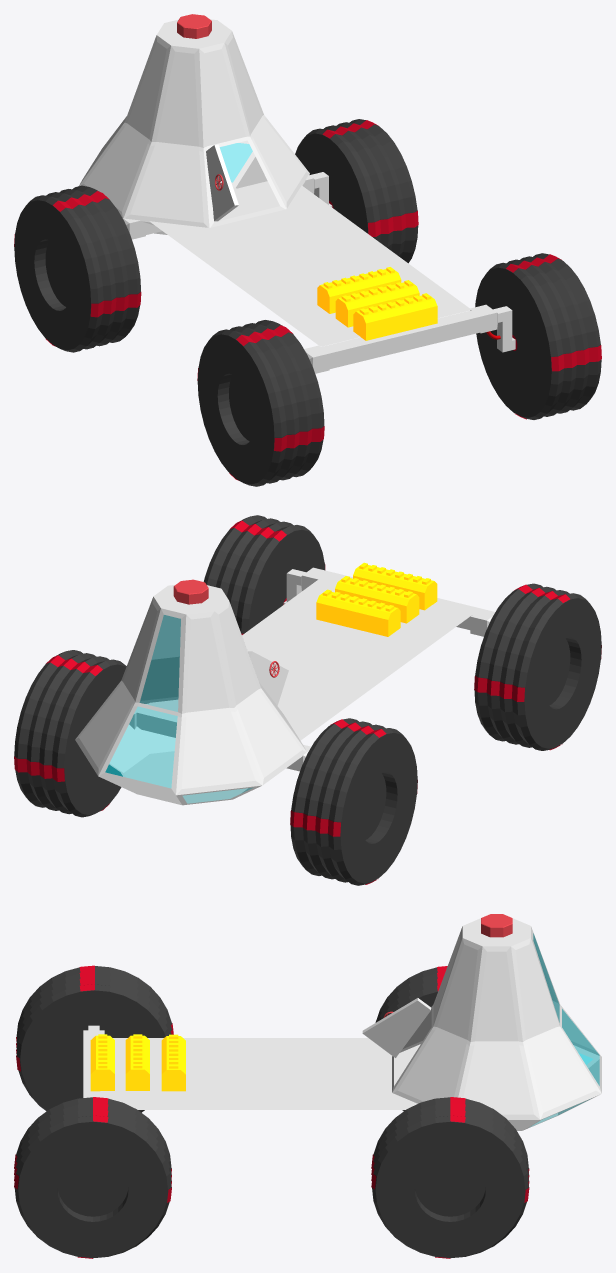
File: truk.glb
3 views of the same model, one above another, from view 1: azimuth 30°, elevation 25°; view 2: azimuth 150°, elevation 25°; view 3: azimuth 270°, elevation 25° (orthographic). The views are drawn at different scales.
Visible parts, largest first — view 1: Circle.020, Tire.002, Tire.003, Tire.004, Plane.001, Tire.001, Plane, Cube.004, Battery.003, Battery.001, Battery.002, Door (+2 smaller); view 2: Circle.020, Tire.002, Tire.003, Tire.001, Plane, Tire.004, Plane.001, Battery.001, Battery.002, Battery.003, Door, Cube.005 (+3 smaller); view 3: Circle.020, Tire.001, Tire.004, Tire.002, Plane.001, Plane, Door, Tire.003, Battery.001, Battery.003, Battery.002, Top (+1 smaller).
Part boxes in pixels (bbox=[...]): Circle.020: bbox=[79, 19, 309, 234]; Tire.002: bbox=[197, 320, 324, 486]; Tire.003: bbox=[14, 185, 141, 352]; Tire.004: bbox=[475, 253, 601, 419]; Plane.001: bbox=[149, 185, 383, 282]; Tire.001: bbox=[295, 119, 418, 263]; Plane: bbox=[234, 246, 471, 346]; Cube.004: bbox=[321, 310, 480, 368]; Battery.003: bbox=[353, 293, 437, 340]; Battery.001: bbox=[317, 267, 401, 313]; Battery.002: bbox=[335, 280, 419, 327]; Door: bbox=[206, 144, 238, 221]; Circle.020: bbox=[75, 585, 306, 805]; Tire.002: bbox=[474, 583, 601, 750]; Tire.003: bbox=[290, 718, 417, 885]; Tire.001: bbox=[14, 650, 126, 817]; Plane: bbox=[242, 578, 472, 678]; Tire.004: bbox=[203, 515, 325, 634]; Plane.001: bbox=[148, 645, 384, 740]; Battery.001: bbox=[316, 589, 400, 636]; Battery.002: bbox=[335, 576, 419, 623]; Battery.003: bbox=[353, 562, 437, 610]; Door: bbox=[248, 651, 288, 705]; Cube.005: bbox=[136, 708, 177, 737]; Circle.020: bbox=[392, 918, 601, 1130]; Tire.001: bbox=[371, 1097, 529, 1258]; Tire.004: bbox=[14, 1097, 171, 1258]; Tire.002: bbox=[16, 965, 173, 1112]; Plane.001: bbox=[270, 1038, 420, 1109]; Plane: bbox=[100, 1038, 270, 1109]; Door: bbox=[362, 998, 431, 1057]; Tire.003: bbox=[375, 966, 447, 1110]; Battery.001: bbox=[161, 1034, 185, 1091]; Battery.003: bbox=[90, 1034, 114, 1091]; Battery.002: bbox=[125, 1034, 149, 1090]; Top: bbox=[481, 914, 512, 937].
Bounding box in the file's own units: 4.31 × 3.42 × 6.91.
